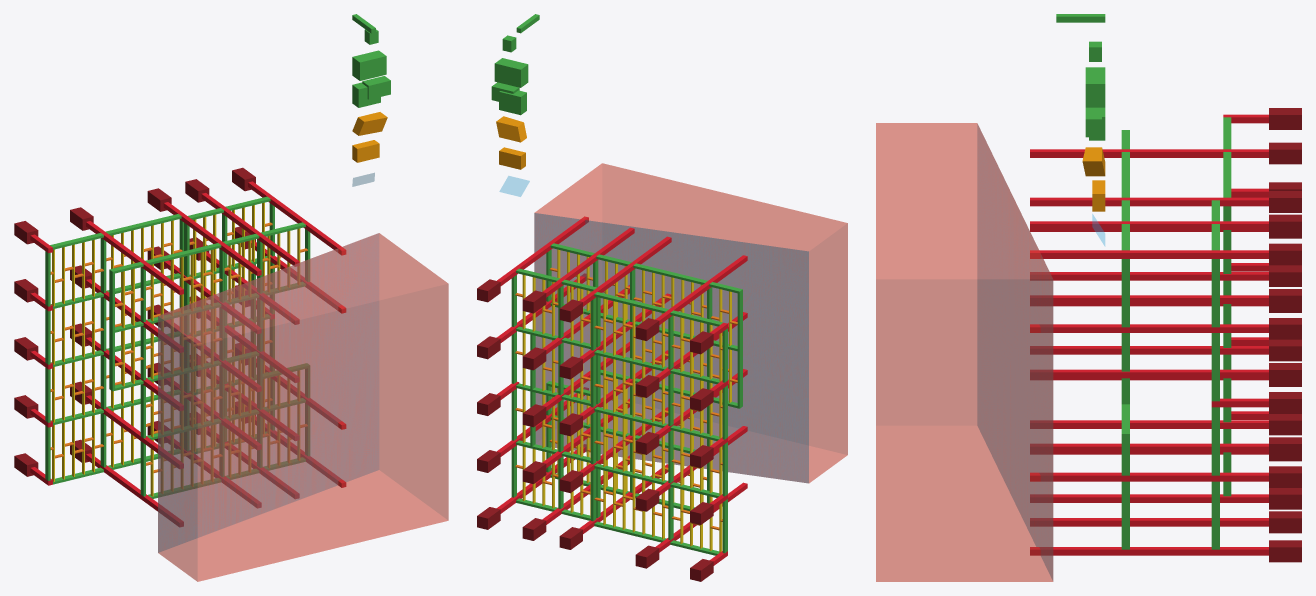
The model's file is tinker.obj.
3 views of the same model, side by side, from view 1: azimuth 30°, elevation 25°; view 2: azimuth 150°, elevation 25°; view 3: azimuth 270°, elevation 25° (orthographic). The views are drawn at different scales.
Visible parts, largest first — view 1: obj_425, obj_424, obj_420, obj_2, obj_3, obj_4, obj_1, obj_421, obj_20, obj_15, obj_13, obj_11 (+12 smaller); view 2: obj_425, obj_424, obj_420, obj_421, obj_2, obj_1, obj_3, obj_4, obj_419, obj_13, obj_9, obj_7 (+7 smaller); view 3: obj_425, obj_424, obj_18, obj_13, obj_17, obj_2, obj_4, obj_23, obj_9, obj_3, obj_8, obj_22 (+35 smaller).
Boxes of the visible parts, x1,y1,x2,y2 form: obj_425: (158,233,448,581); obj_424: (158,233,378,552); obj_420: (352,76,390,107); obj_2: (163,202,261,275); obj_3: (201,193,299,266); obj_4: (248,181,346,255); obj_1: (86,221,183,294); obj_421: (352,50,386,80); obj_20: (86,453,183,526); obj_15: (86,395,183,468); obj_13: (206,310,299,382); obj_11: (86,337,183,410); obj_425: (534,163,847,483); obj_424: (534,213,808,482); obj_420: (491,82,526,115); obj_421: (494,58,528,87); obj_2: (579,236,671,306); obj_1: (655,255,747,324); obj_3: (542,227,634,297); obj_4: (497,216,588,285); obj_419: (496,116,526,142); obj_13: (542,341,629,410); obj_9: (496,273,586,342); obj_7: (579,293,671,363); obj_425: (876,123,1053,581); obj_424: (977,124,1052,579); obj_18: (1030,472,1268,481); obj_13: (1030,369,1268,378); obj_17: (1030,443,1268,452); obj_2: (1030,197,1268,206); obj_4: (1030,250,1268,258); obj_23: (1030,547,1268,555); obj_9: (1030,324,1268,332); obj_3: (1030,221,1268,229); obj_8: (1030,295,1268,303); obj_22: (1030,518,1268,526).
Bounding box in the file's own units: 132 × 192 × 130.
